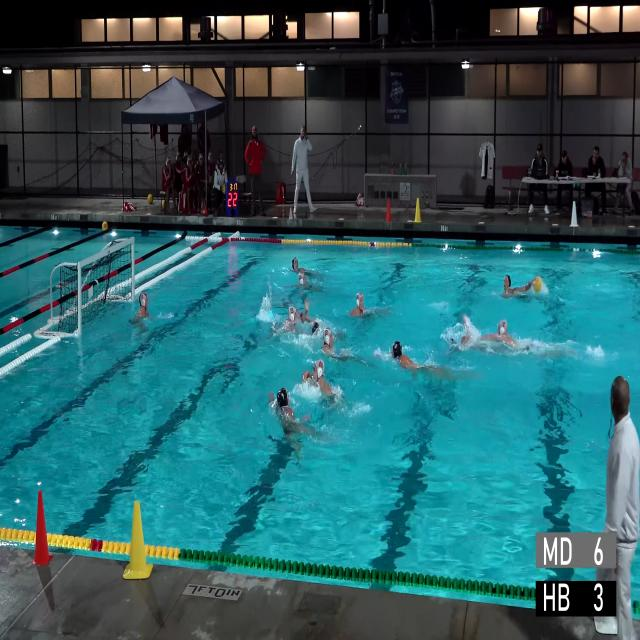ball: (533, 276, 542, 291), (102, 222, 108, 231), (148, 194, 153, 204), (162, 200, 167, 209), (222, 183, 225, 194)
